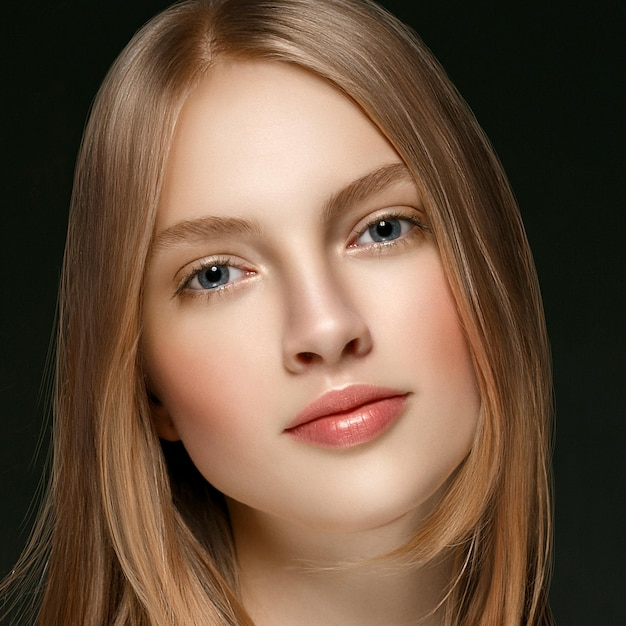teen: (90, 15, 506, 550)
